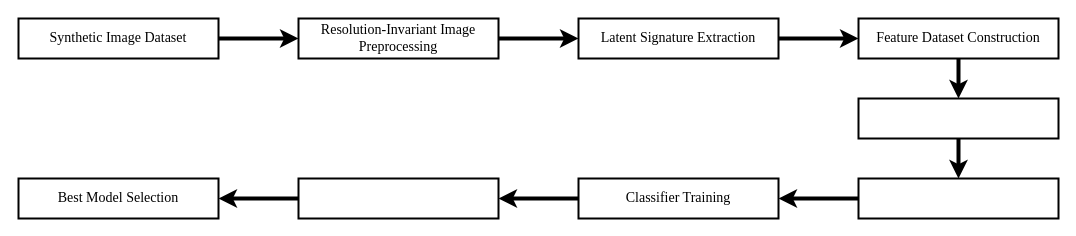
This 1076x236 diagram has some shape labels left out. Here are the shapes that lost their labels. From the top down, the centre of each, then its label:
point 958,118: Train-Test Split
point 398,198: Model Evaluation
point 958,198: Feature Normalization
